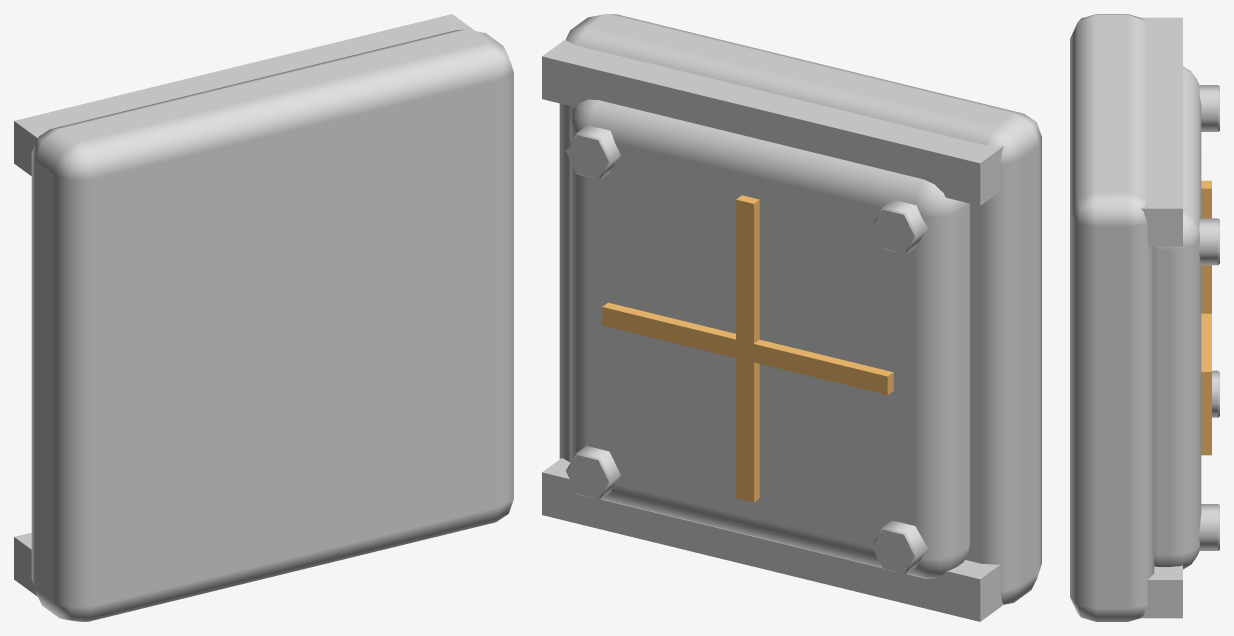
The model's file is ArmorPlate.glb.
The picture shows the model from 3 angles, left to right: view 1: azimuth 30°, elevation 25°; view 2: azimuth 150°, elevation 25°; view 3: azimuth 270°, elevation 25°; orthographic projection. The views are drawn at different scales.
Visible parts, largest first — view 1: Body; view 2: Body, Glow; view 3: Body, Glow.
Part boxes in pixels (x1,y1,x2,y2): Body: (14,14,513,621); Body: (542,14,1041,621); Glow: (602,195,893,502); Body: (1070,14,1219,621); Glow: (1201,180,1211,455).
Bounding box in the file's own units: 9 × 9 × 2.85.
